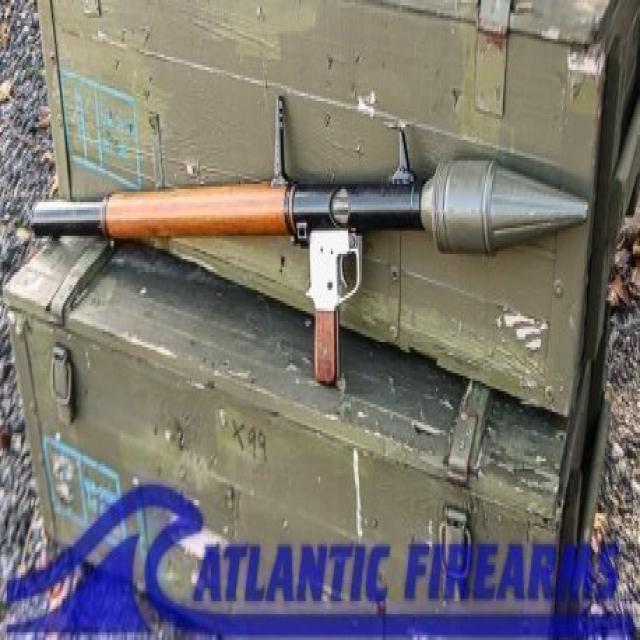bazooka: (32, 151, 602, 388)
